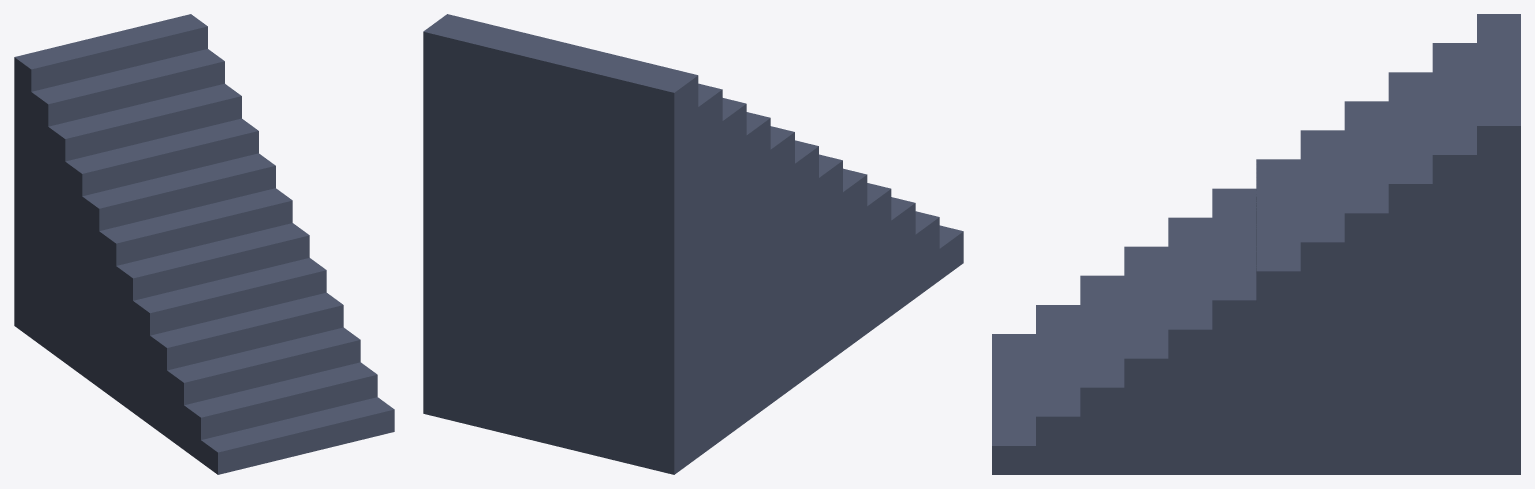
File: stairs.fbx
The picture shows the model from 3 angles, left to right: view 1: azimuth 30°, elevation 25°; view 2: azimuth 150°, elevation 25°; view 3: azimuth 270°, elevation 25°; orthographic projection. The views are drawn at different scales.
Parts seen in each view (by area): view 1: stairs; view 2: stairs; view 3: stairs.
Boxes of the visible parts, box(x1,y1,x2,y2) form: stairs: box(14, 14, 394, 474); stairs: box(423, 14, 963, 474); stairs: box(992, 14, 1520, 474).
Bounding box in the file's own units: 200 × 291 × 400.
